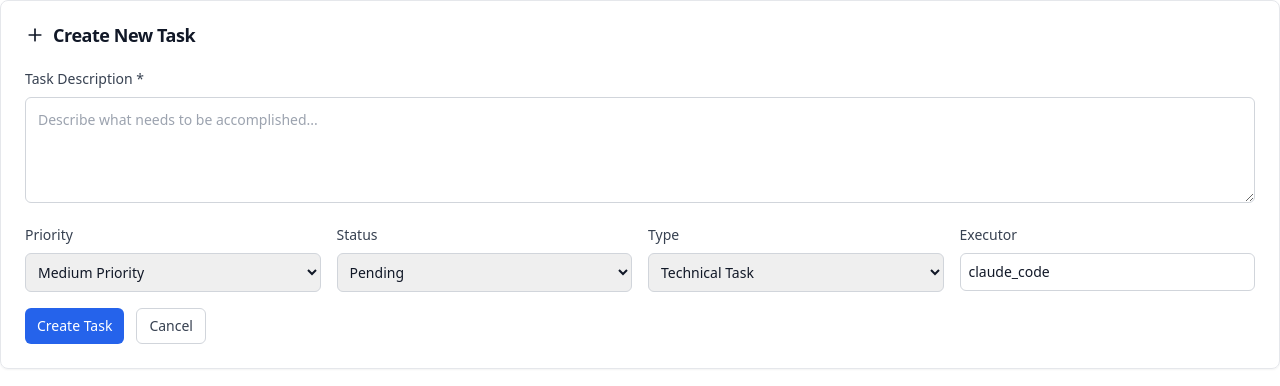
Test: TaskForm › Edge Cases › should handle rapid form changes
Note: Rapid changes
Type "Test" into the text box labelled "Task Description *".
click(640, 150); type("Test")  # box [25,97,1255,203]
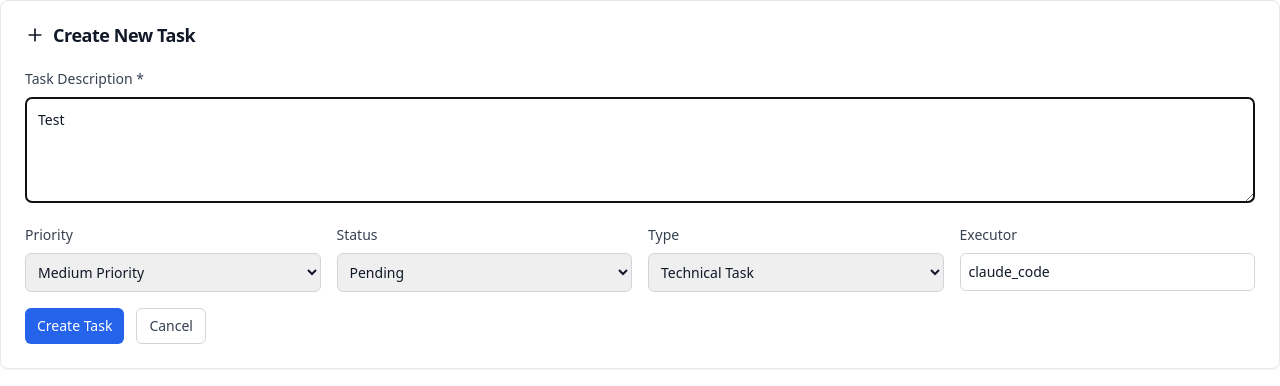
Select "High Priority" in the dropdown labelled "Priority" at (173, 272), box [25,253,320,292]
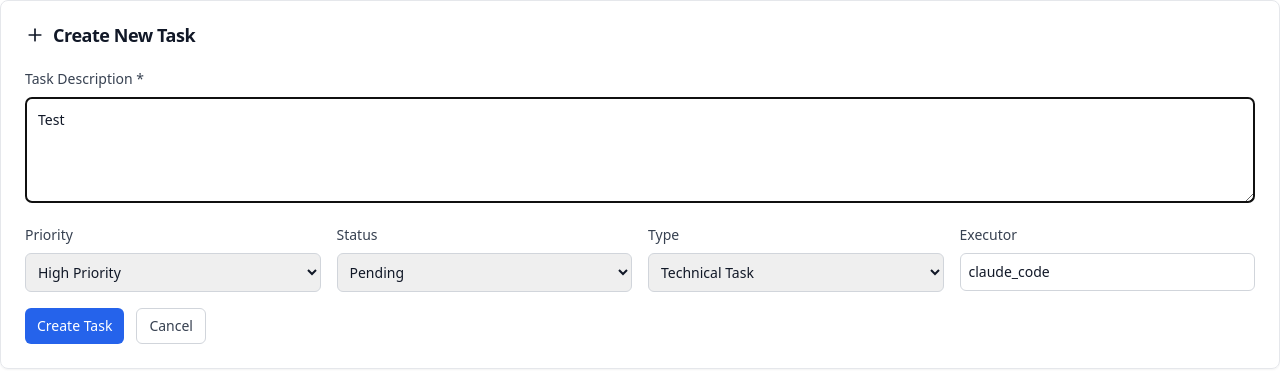
Select "Low Priority" in the dropdown labelled "Priority" at (173, 272), box [25,253,320,292]
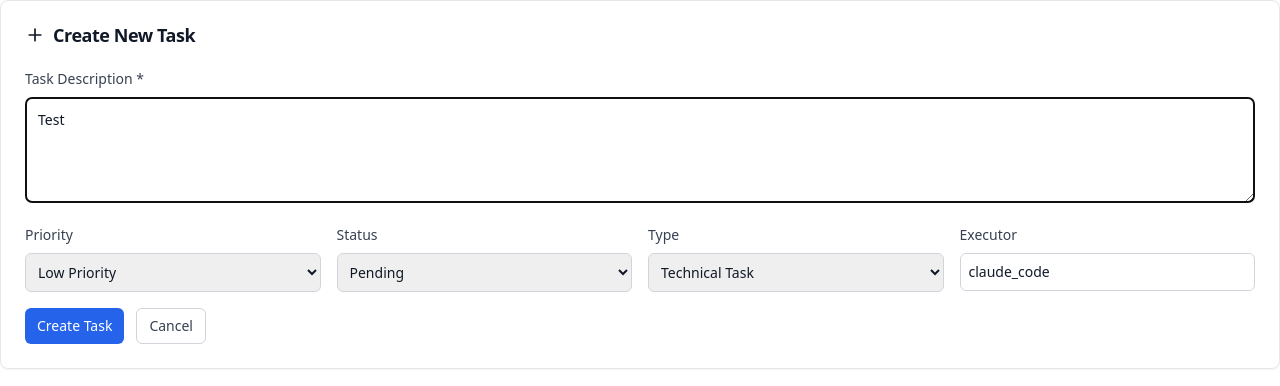
Type " content" into the text box labelled "Task Description *".
click(640, 150); type(" content")  # box [25,97,1255,203]
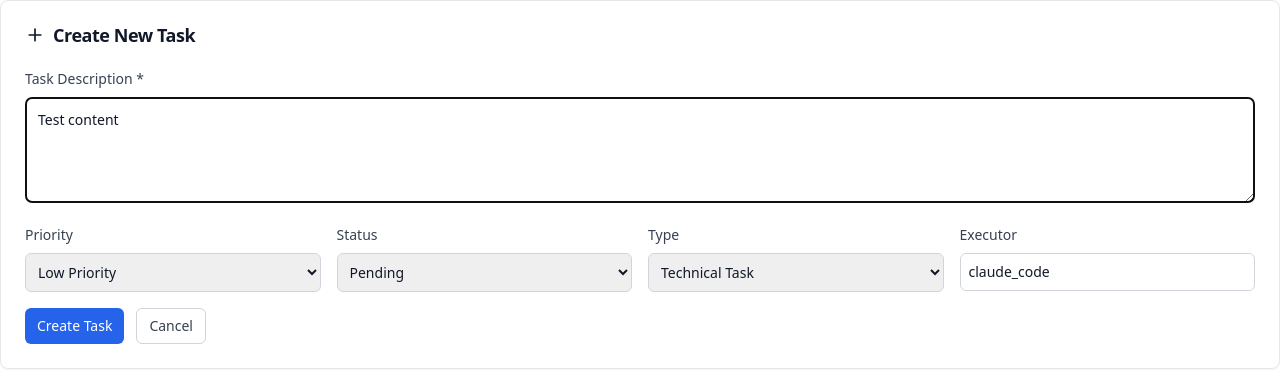
Result: the text box labelled "Task Description *" holds "Test content" at [25,97,1255,203]
